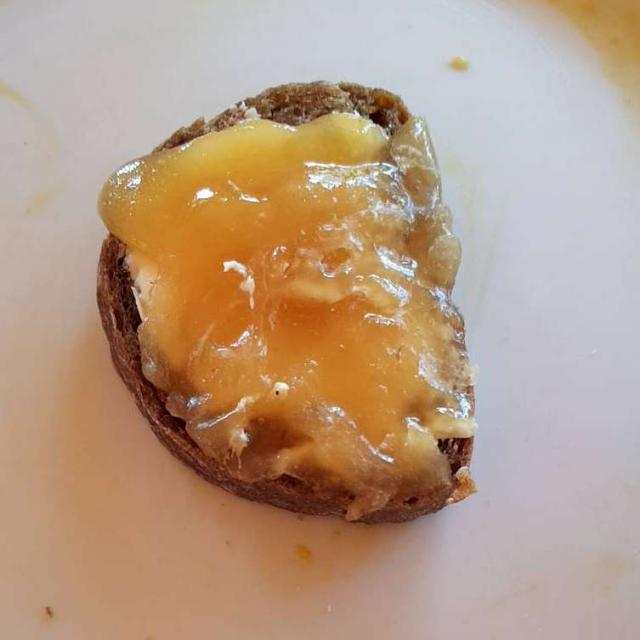bread-wholemeal: (100, 83, 474, 520)
honey: (107, 83, 477, 520)
